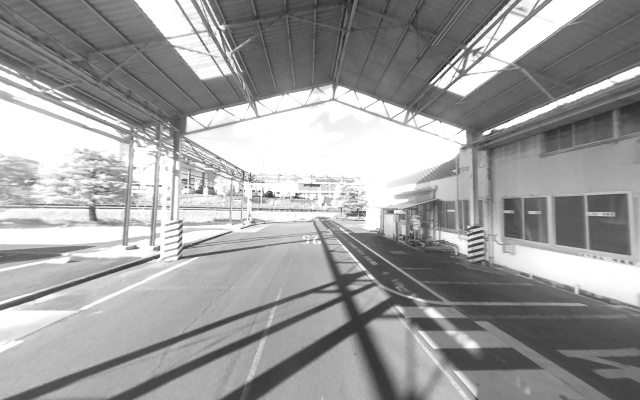bollard: (161, 219, 183, 261), (467, 223, 487, 265)
